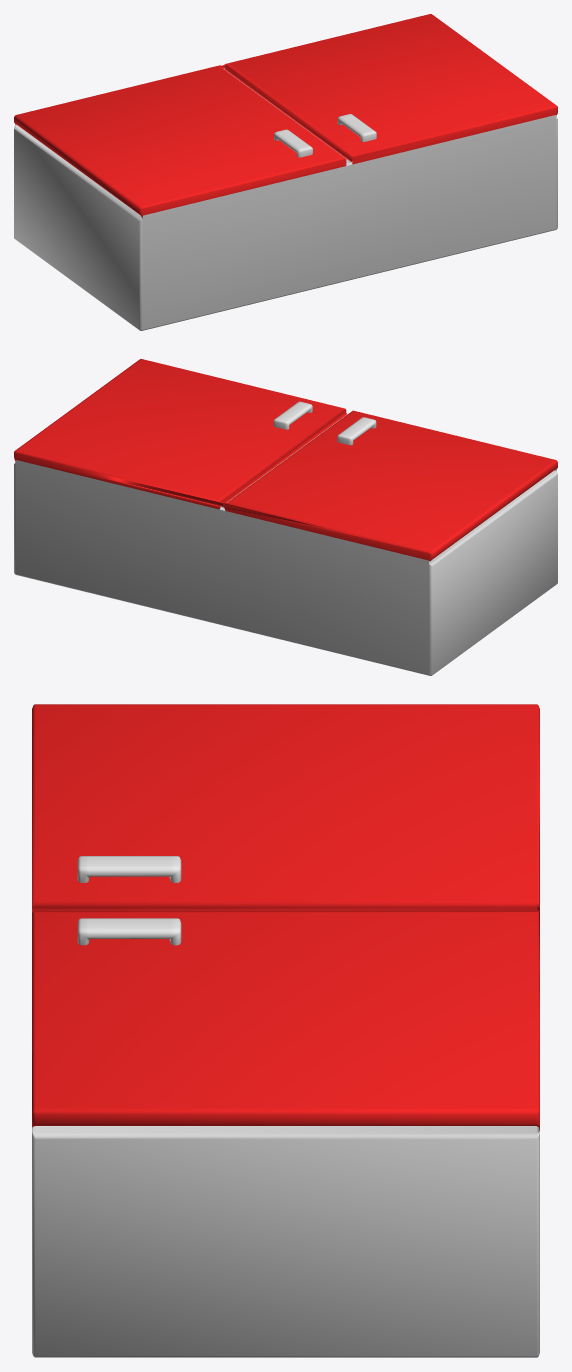
3 renders of one model, top to bottom at view 1: azimuth 30°, elevation 25°; view 2: azimuth 150°, elevation 25°; view 3: azimuth 270°, elevation 25°, orthographic. The views are drawn at different scales.
Visible parts, largest first — view 1: Cube.002; view 2: Cube.002; view 3: Cube.002.
Boxes of the visible parts, <box> form: Cube.002: <box>14,14,557,330</box>; Cube.002: <box>14,359,557,675</box>; Cube.002: <box>32,704,539,1357</box>.
Size of the model in its own units: 120 by 36 by 63.
